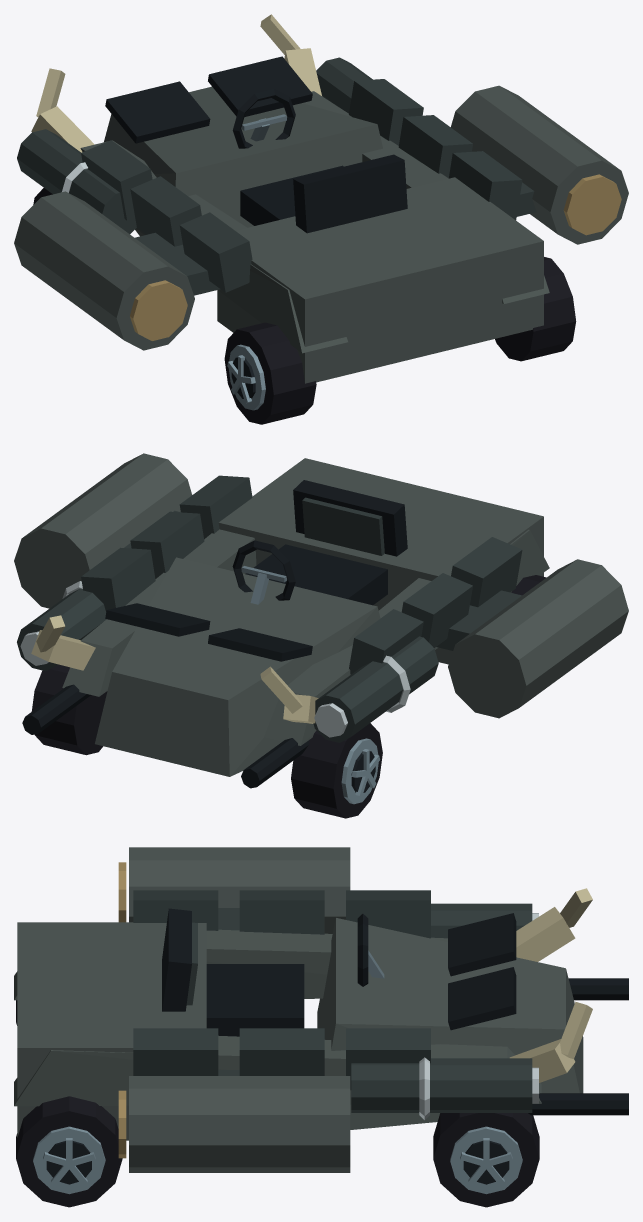
Rendered from kart.glb.
3 views of the same model, one above another, from view 1: azimuth 30°, elevation 25°; view 2: azimuth 150°, elevation 25°; view 3: azimuth 270°, elevation 25° (orthographic). The views are drawn at different scales.
Visible parts, largest first — view 1: identity-gunship-gunship-armored-cargo-fuselage, identity-gunship-motif-armor, identity-gunship-driver-cockpit, wheel-rear-left, identity-gunship-motif-plasma, wheel-rear-right, identity-gunship-motif-tusks; view 2: identity-gunship-gunship-armored-cargo-fuselage, identity-gunship-motif-armor, identity-gunship-driver-cockpit, identity-gunship-motif-plasma, wheel-front-left, wheel-front-right, identity-gunship-motif-tusks; view 3: identity-gunship-gunship-armored-cargo-fuselage, identity-gunship-motif-armor, identity-gunship-motif-plasma, identity-gunship-driver-cockpit, wheel-rear-right, wheel-front-right, identity-gunship-motif-tusks.
Boxes of the visible parts, left/top/right/bottom form: identity-gunship-gunship-armored-cargo-fuselage: left=14, top=56, right=628, bottom=383; identity-gunship-motif-armor: left=81, top=79, right=522, bottom=292; identity-gunship-driver-cockpit: left=232, top=89, right=407, bottom=233; wheel-rear-left: left=224, top=322, right=316, bottom=424; identity-gunship-motif-plasma: left=17, top=57, right=372, bottom=233; wheel-rear-right: left=495, top=257, right=576, bottom=361; identity-gunship-motif-tusks: left=31, top=14, right=321, bottom=152; identity-gunship-gunship-armored-cargo-fuselage: left=14, top=453, right=628, bottom=788; identity-gunship-motif-armor: left=81, top=475, right=522, bottom=674; identity-gunship-driver-cockpit: left=232, top=480, right=407, bottom=605; identity-gunship-motif-plasma: left=17, top=581, right=438, bottom=742; wheel-front-left: left=291, top=723, right=382, bottom=818; wheel-front-right: left=31, top=664, right=107, bottom=755; identity-gunship-motif-tusks: left=31, top=615, right=318, bottom=723; identity-gunship-gunship-armored-cargo-fuselage: left=14, top=847, right=628, bottom=1172; identity-gunship-motif-armor: left=133, top=890, right=430, bottom=1090; identity-gunship-motif-plasma: left=351, top=903, right=538, bottom=1120; identity-gunship-driver-cockpit: left=162, top=908, right=384, bottom=1036; wheel-rear-right: left=16, top=1096, right=122, bottom=1207; wheel-front-right: left=433, top=1113, right=539, bottom=1207; identity-gunship-motif-tusks: left=509, top=888, right=592, bottom=1082.
Size of the model in its own units: 3 by 1.09 by 2.89.
